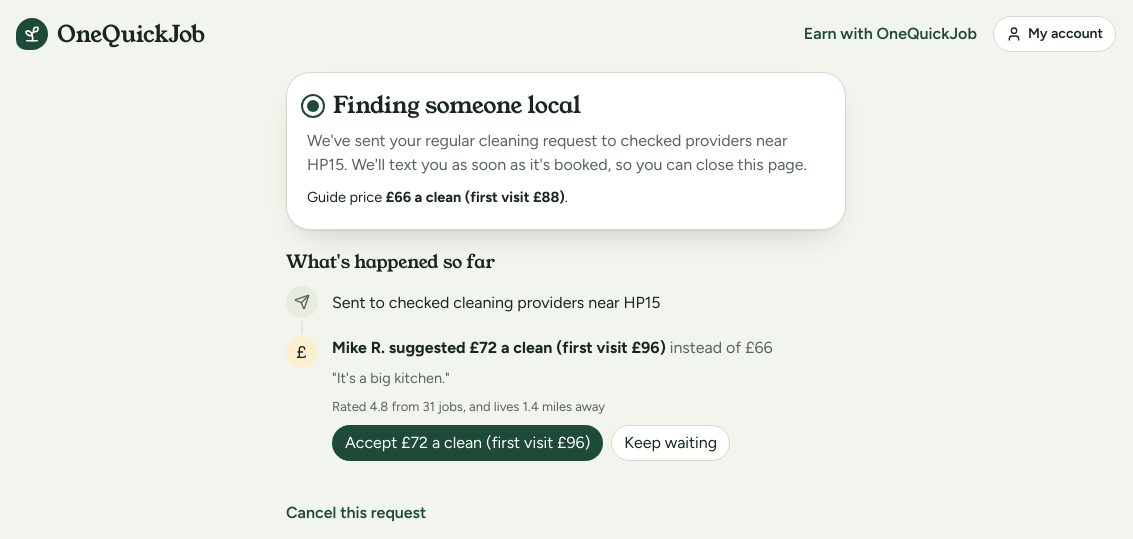
Scenario: Finding someone local › shows a counter with both stored prices and accepts exactly those terms (A1)
The image size is (1133, 539).
Expected: the heading "Finding someone local" is shown, [333,93,581,119]
Expected: the text "Mike R. suggested £72 a clean (first visit £96)" is shown, [332,338,666,357]
What coordinates should you click on to do the following:
click the button "Accept £72 a clean (first visit £96)"
I would click on:
 (468, 443)
Its box is [332,425,603,461].
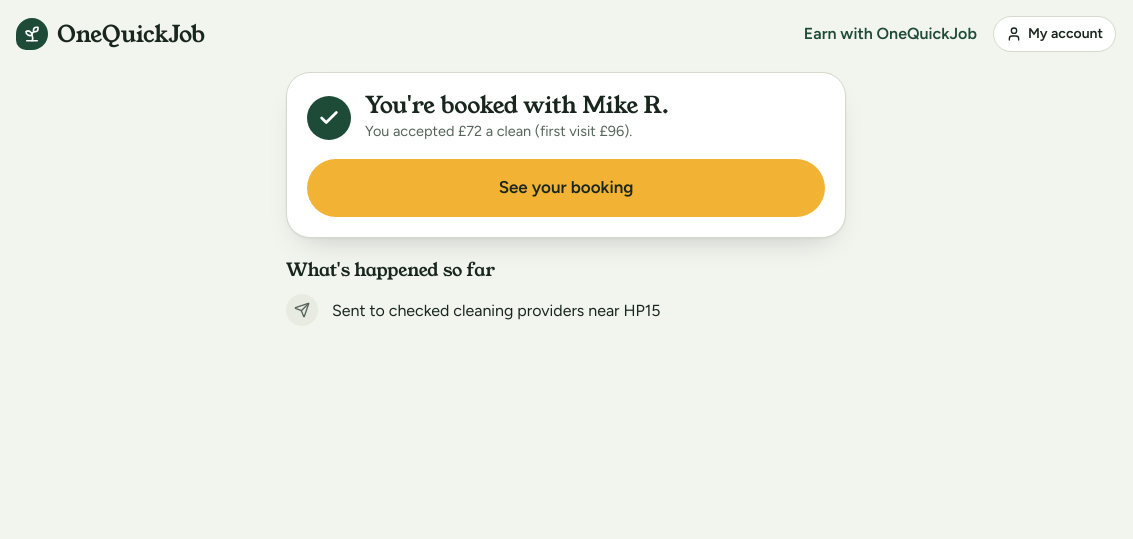
Result: the heading "You're booked with Mike R." is shown at [365,93,669,119]
Result: the text "You accepted £72 a clean (first visit £96)." is shown at [365,121,669,143]
